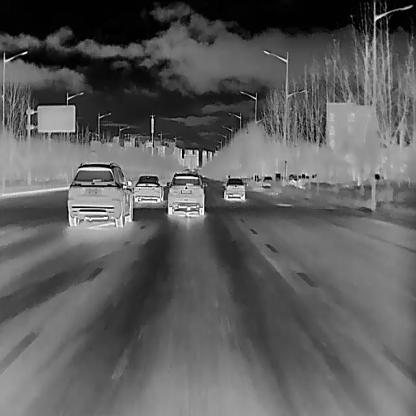car: (66, 162, 133, 228), (166, 171, 206, 214), (133, 173, 165, 202), (222, 177, 244, 200), (261, 175, 272, 187), (287, 173, 300, 181)
